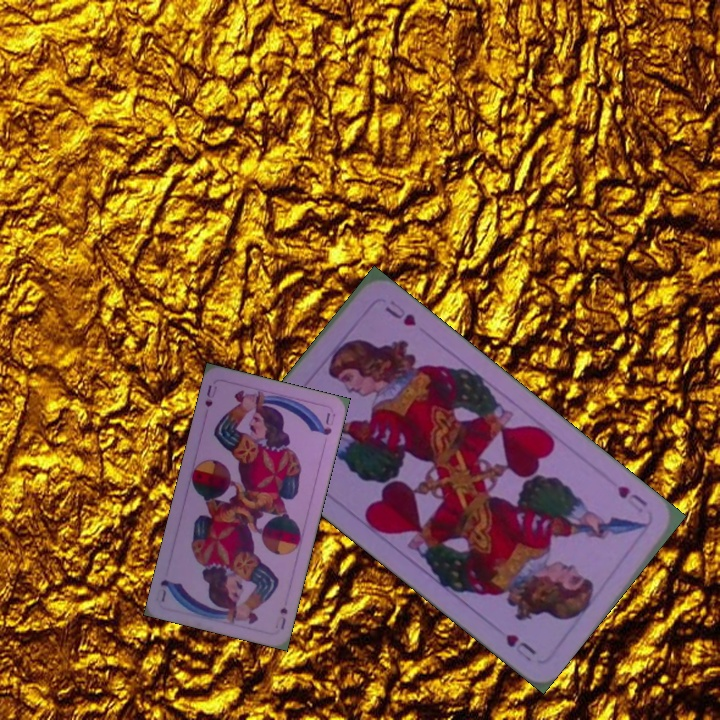HU: (613, 481, 651, 509)
SU: (201, 381, 220, 410), (276, 604, 290, 632)
